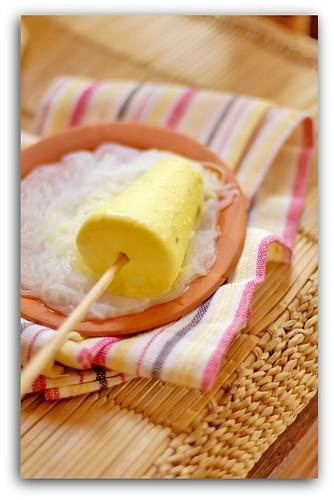Kulfi: (73, 155, 211, 303)
